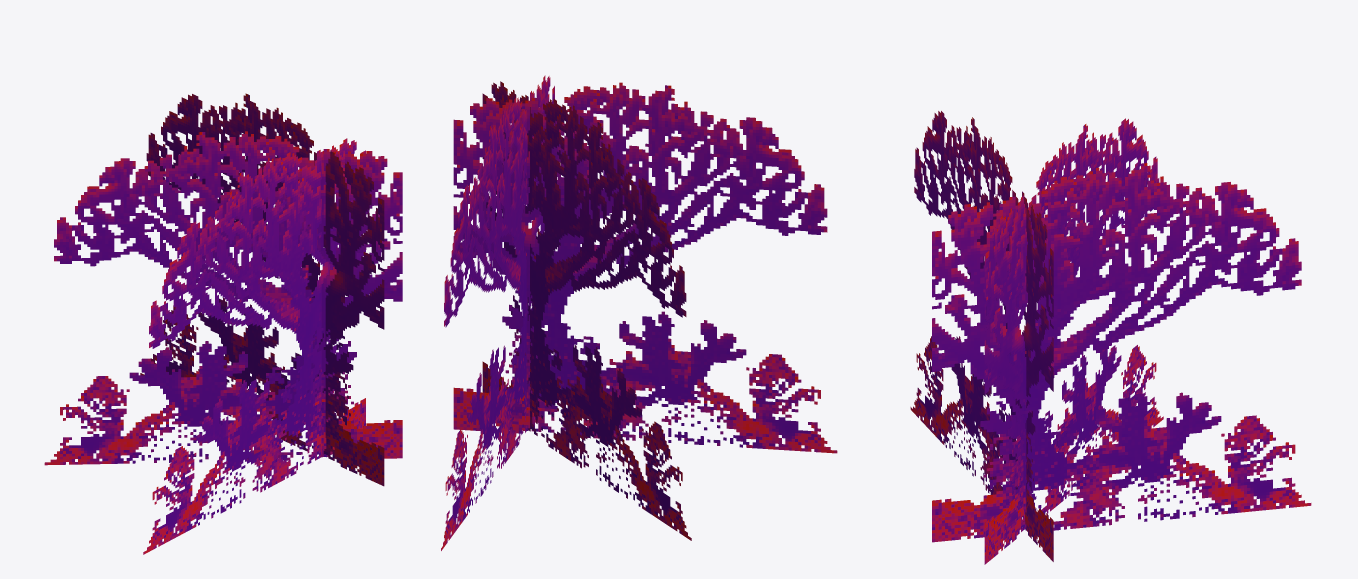
File: Branch Coral 1.fbx
3 renders of one model, left to right at view 1: azimuth 30°, elevation 25°; view 2: azimuth 150°, elevation 25°; view 3: azimuth 270°, elevation 25°, orthographic. The views are drawn at different scales.
Parts seen in each view (by area): view 1: pink branching coral png.020; view 2: pink branching coral png.020; view 3: pink branching coral png.020.
Part boxes in pixels (bbox=[...]): pink branching coral png.020: bbox=[44, 93, 402, 554]; pink branching coral png.020: bbox=[441, 75, 837, 550]; pink branching coral png.020: bbox=[910, 111, 1311, 564].
Bounding box in the file's own units: 33.62 × 35.59 × 37.54.
Materials: 1 (1 with a texture image).
